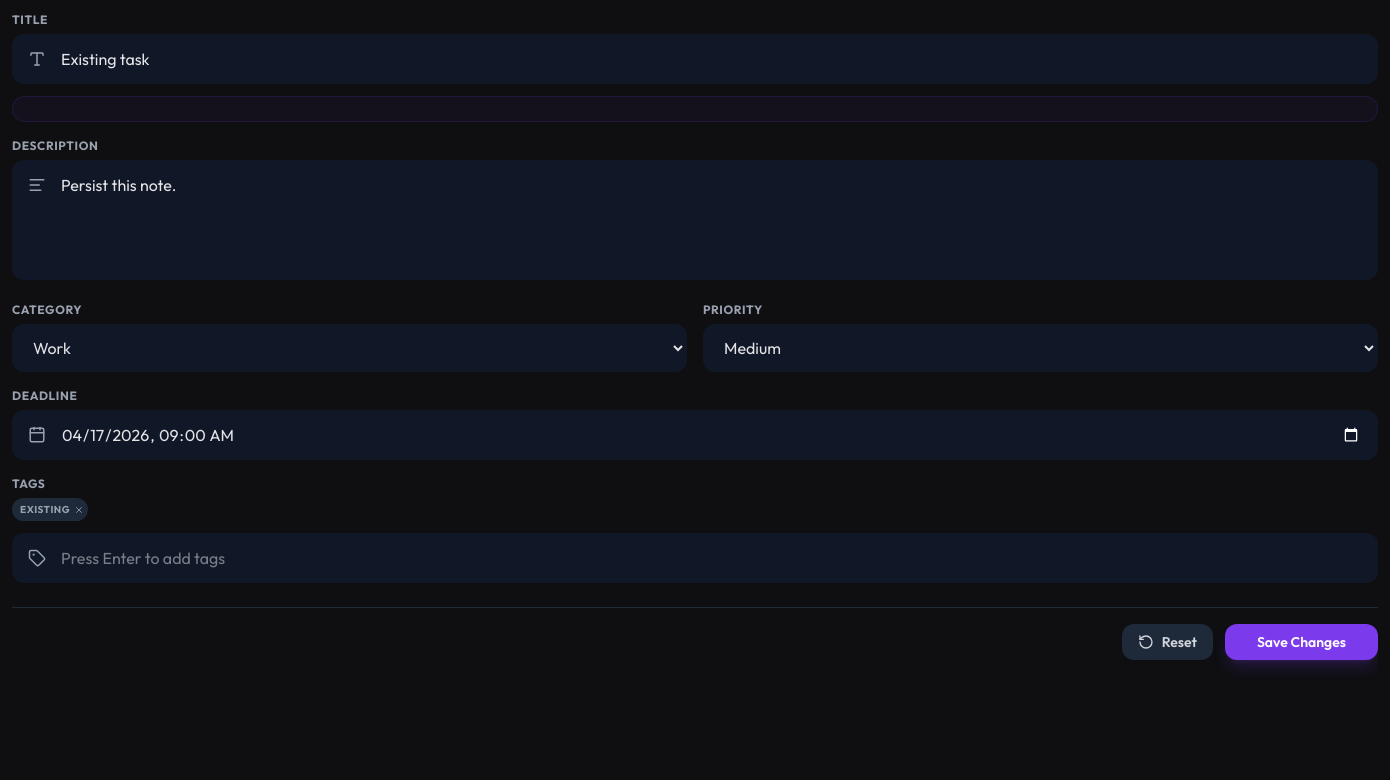
Test: HybridTaskForm › prefills edit data and resets fields back to the initial values
Expected: the text box labelled "Description" holds "Persist this note.", [12,160,1378,280]
Replace the text in the field labelled "Title" with "Updated title": (695, 59) [12,34,1378,84]
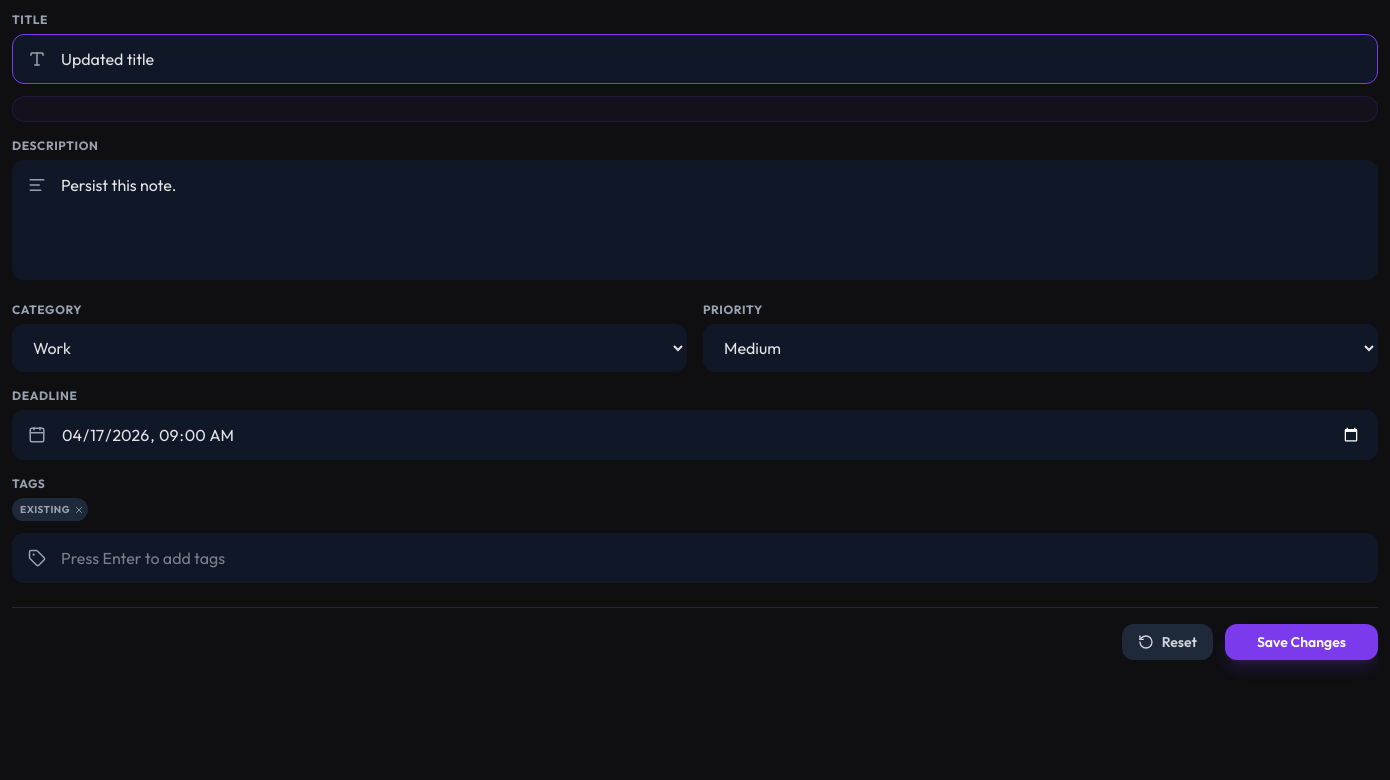
Replace the text in the text box labelled "Description" with "Updated note for editing.": (695, 220) [12,160,1378,280]
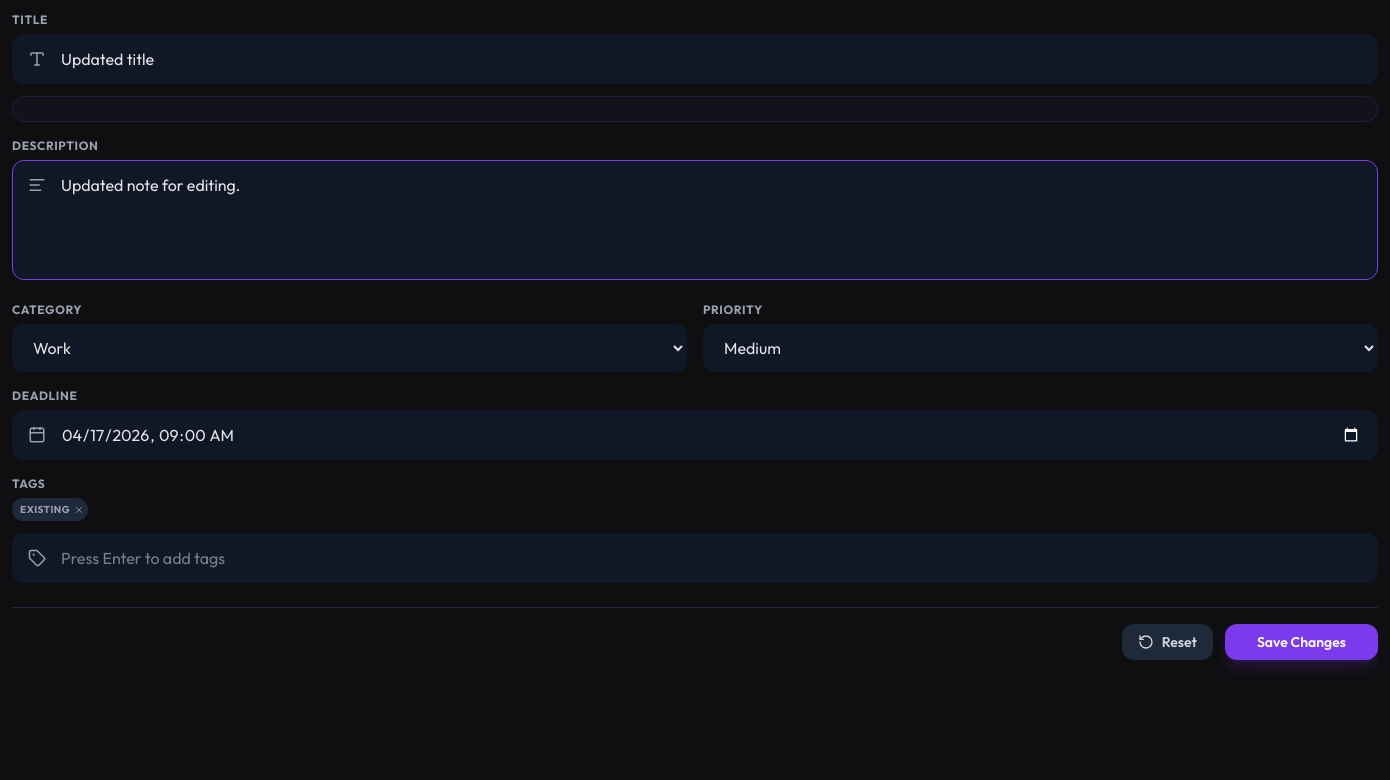
Click the button "Reset": (1167, 642) [1122,624,1213,660]
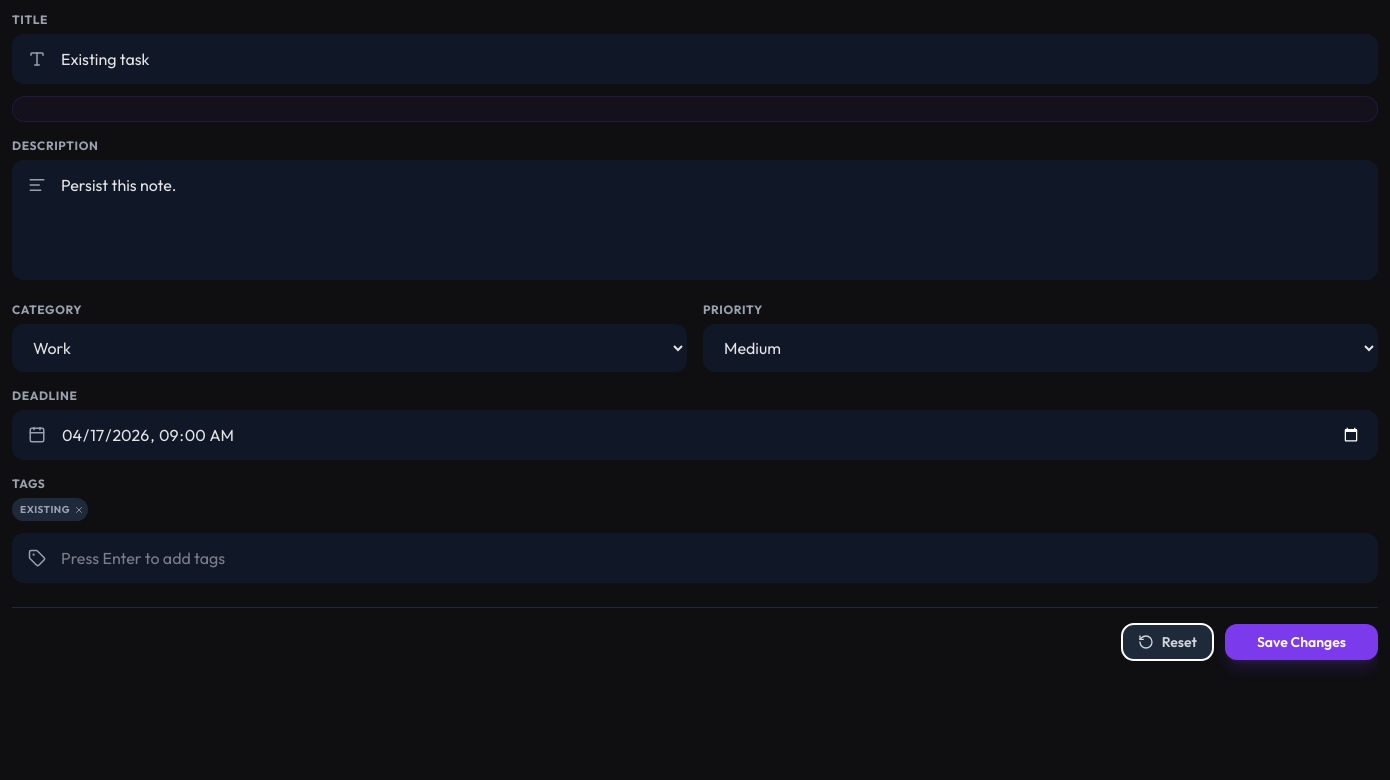
Result: the field labelled "Title" holds "Existing task" at [12,34,1378,84]
Result: the text box labelled "Description" holds "Persist this note." at [12,160,1378,280]
